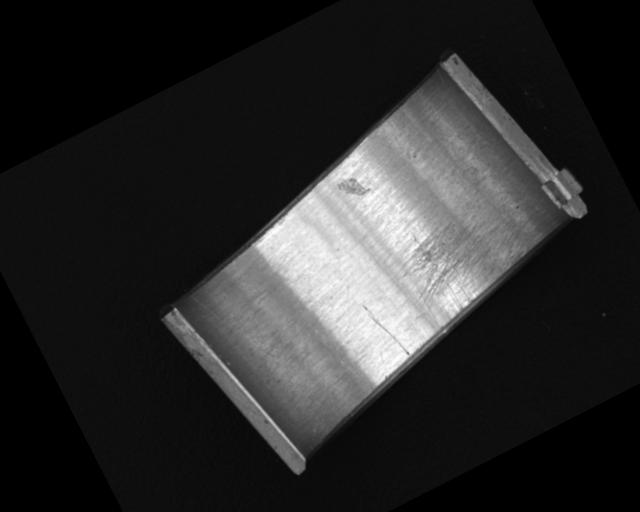bruise: (336, 171, 371, 203)
nick: (190, 272, 277, 380), (360, 296, 411, 366)
scratch: (386, 191, 543, 338)
